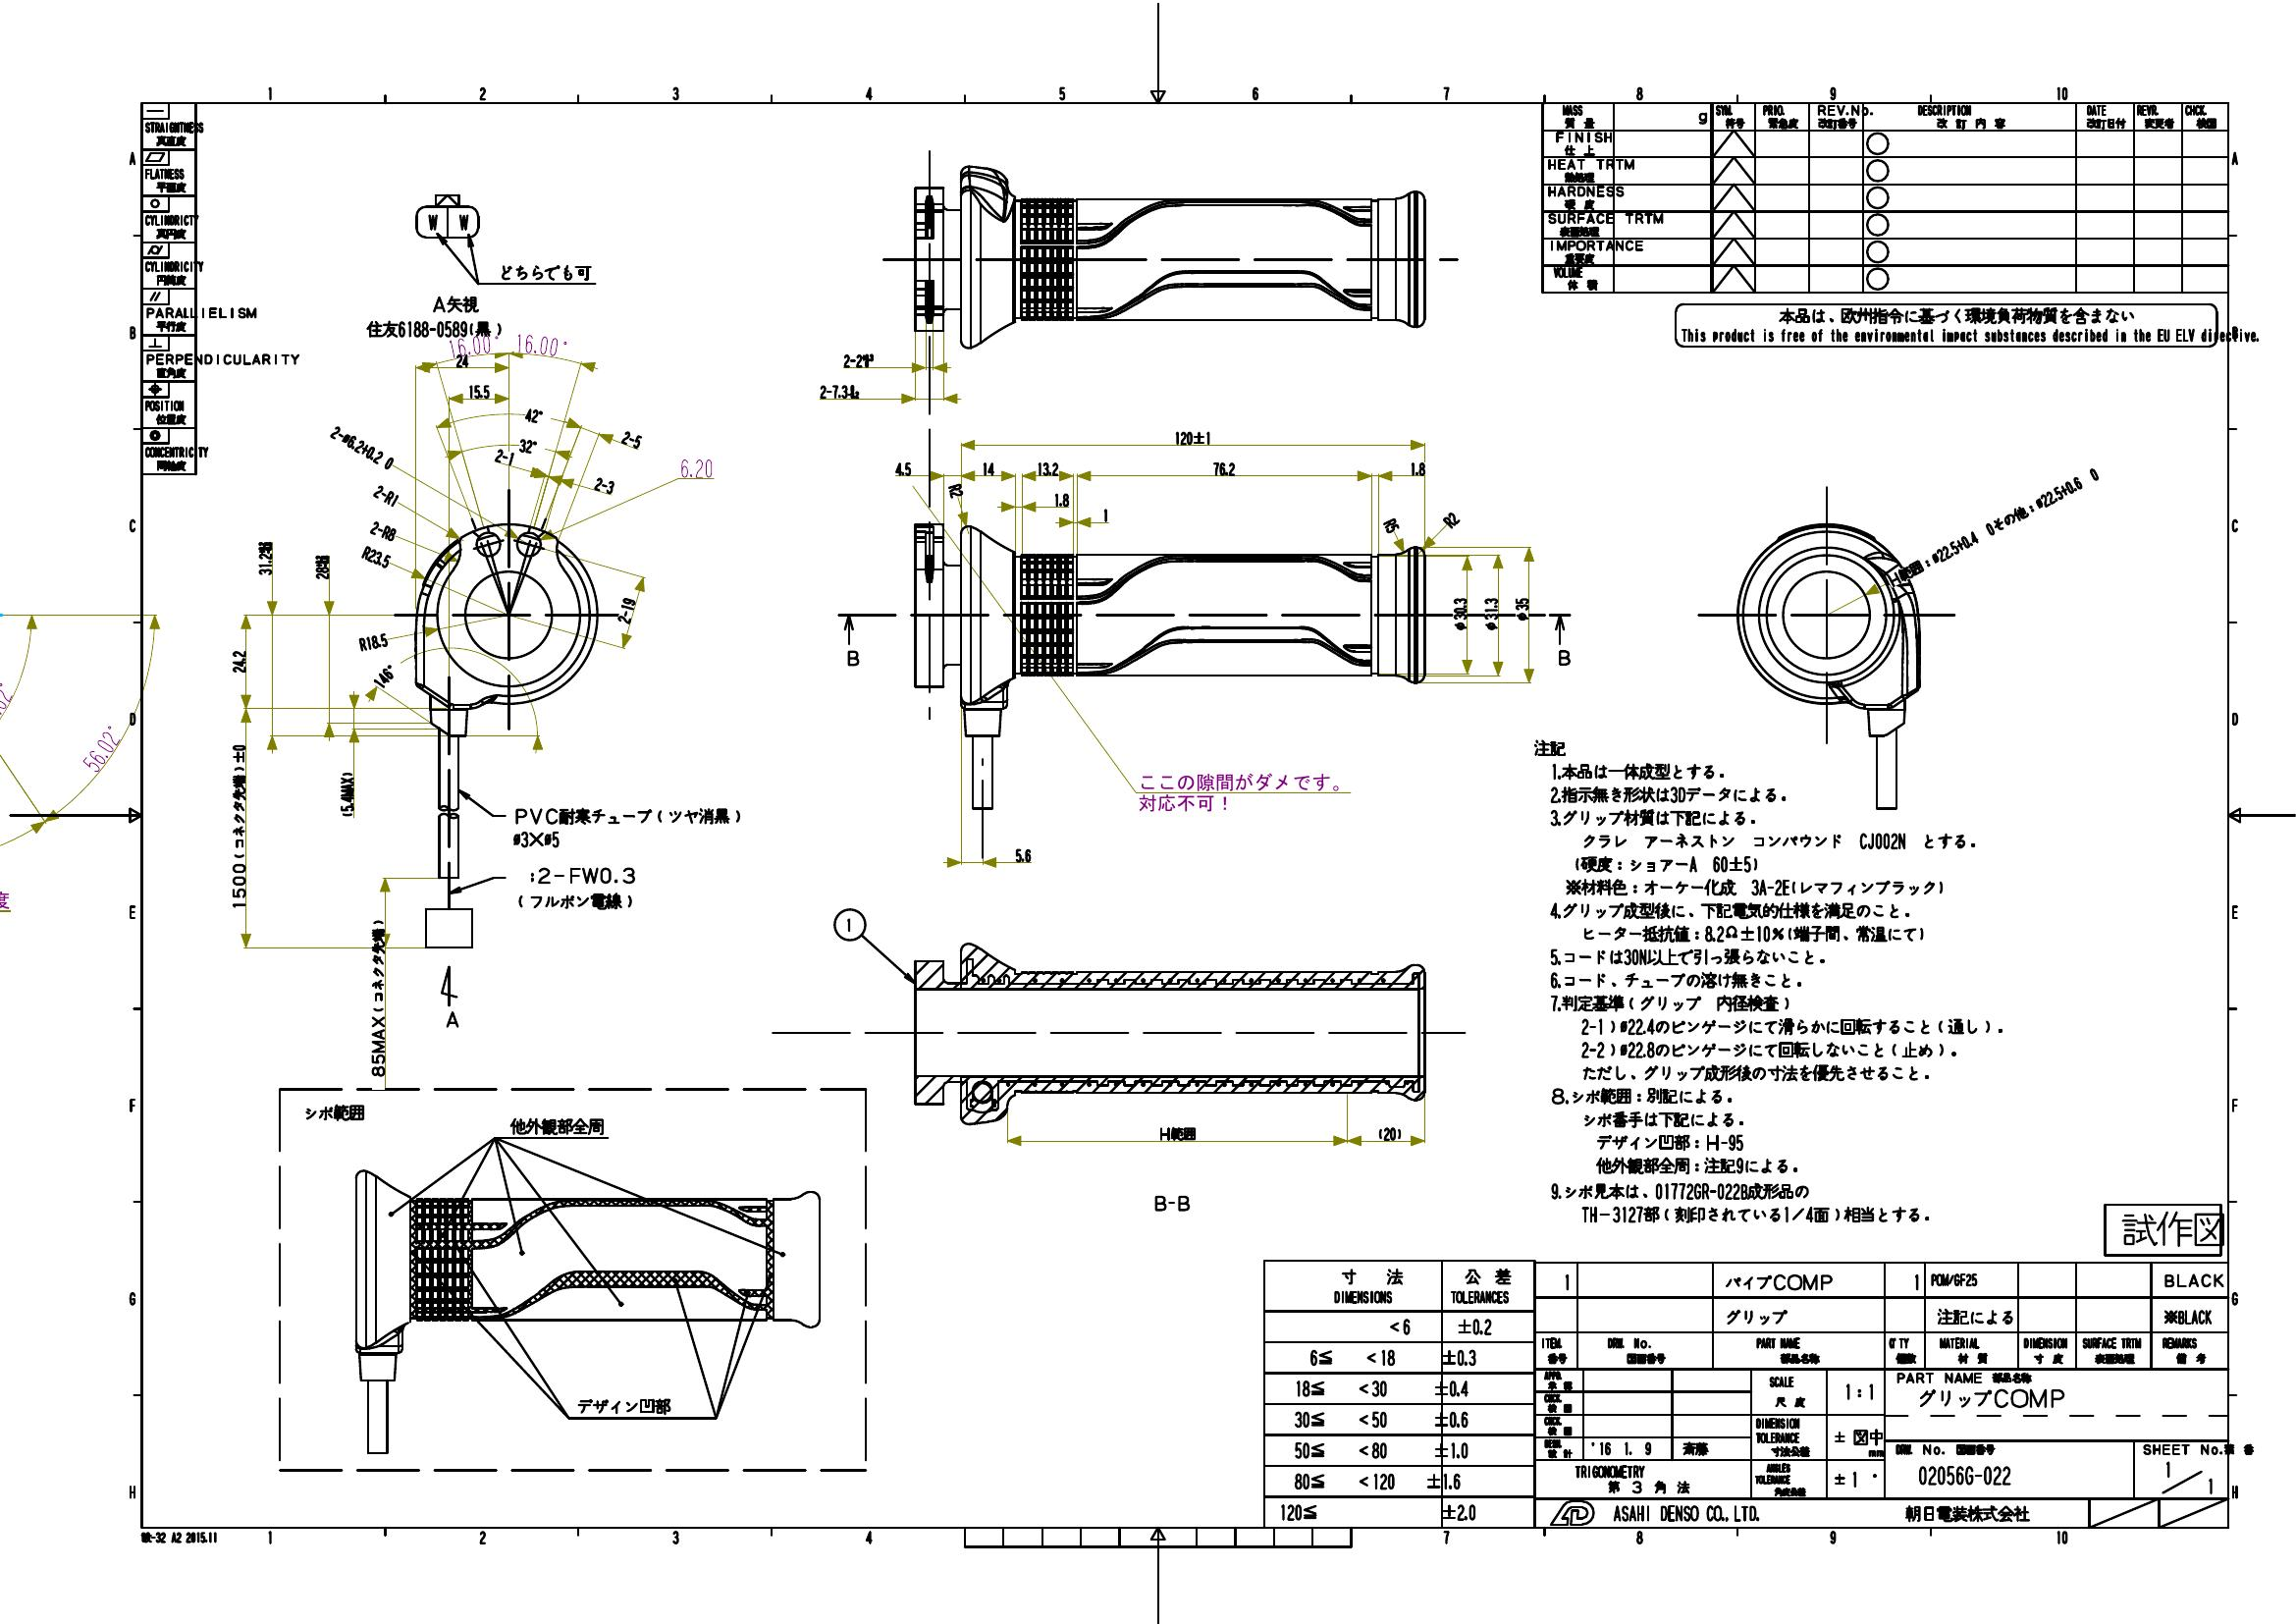anntotation_text: (1530, 735, 2008, 1230), (1674, 302, 2217, 346), (1140, 770, 1349, 814), (2103, 1204, 2224, 1255), (365, 295, 506, 337), (511, 803, 747, 828), (515, 893, 641, 912), (571, 1392, 675, 1415), (508, 1114, 608, 1135), (499, 262, 594, 281), (228, 765, 246, 859), (371, 916, 385, 1012), (302, 1102, 365, 1123), (141, 1529, 220, 1545), (1149, 1192, 1196, 1213), (834, 907, 864, 940), (1983, 511, 2036, 526), (436, 1007, 466, 1032), (1887, 564, 1932, 578), (1158, 1125, 1196, 1141), (1553, 645, 1572, 668), (845, 649, 863, 668), (427, 213, 439, 232), (457, 213, 469, 230)
dimension_text: (527, 866, 638, 884), (2031, 480, 2101, 497), (76, 738, 128, 759), (329, 439, 397, 455), (516, 334, 566, 355), (371, 1014, 386, 1077), (337, 766, 355, 819), (1925, 540, 1982, 555), (511, 831, 560, 849), (230, 861, 246, 910), (678, 457, 713, 478), (817, 381, 859, 399), (448, 337, 494, 353), (255, 538, 272, 576), (1483, 596, 1498, 633), (1173, 431, 1214, 445), (1451, 596, 1467, 631), (841, 352, 875, 367), (230, 647, 246, 677), (1374, 1125, 1404, 1141), (1212, 459, 1238, 476), (313, 554, 329, 582), (372, 487, 397, 504), (357, 634, 386, 649), (362, 550, 390, 564), (369, 524, 395, 538), (1514, 596, 1528, 622), (1051, 492, 1073, 508), (374, 668, 397, 684), (1036, 460, 1059, 476), (620, 596, 632, 624), (228, 743, 244, 765), (1012, 847, 1035, 861), (1442, 510, 1460, 527), (494, 450, 515, 464), (467, 383, 488, 397), (523, 408, 541, 424), (596, 478, 615, 492), (622, 432, 641, 446), (947, 482, 963, 497), (1409, 462, 1426, 476), (894, 462, 913, 475), (520, 439, 536, 453), (980, 462, 998, 475), (453, 355, 471, 367), (1384, 518, 1398, 533), (1100, 506, 1108, 522)
object: (912, 522, 1425, 808), (355, 1169, 819, 1452), (913, 165, 1425, 350), (913, 942, 1425, 1125), (416, 524, 596, 946), (1737, 524, 1920, 810), (415, 193, 478, 239)
title_block: (1263, 1260, 2227, 1529), (1541, 104, 2227, 292), (142, 104, 195, 473)
